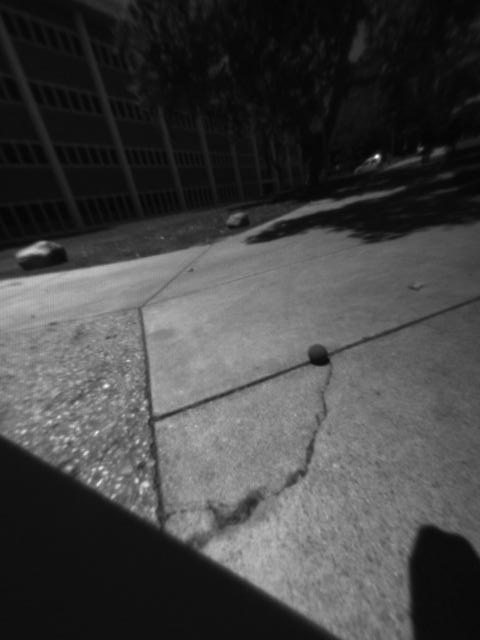dogtoy: (300, 337, 337, 371)
